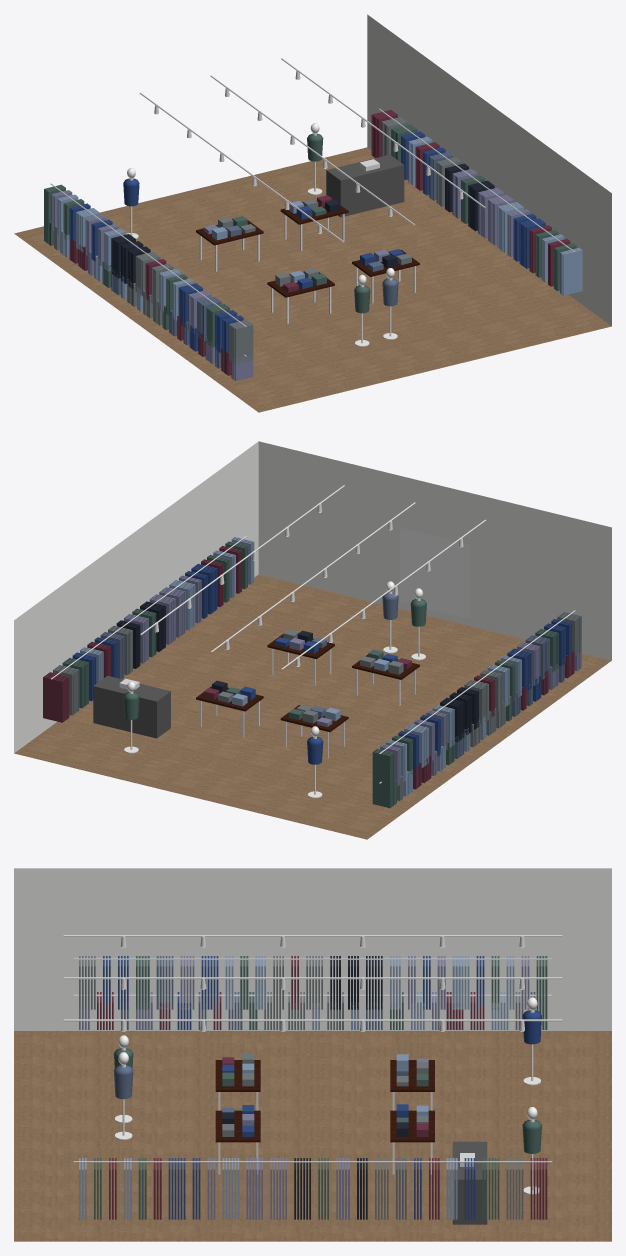
File: roupas.gltf
3 renders of one model, top to bottom at view 1: azimuth 30°, elevation 25°; view 2: azimuth 150°, elevation 25°; view 3: azimuth 270°, elevation 25°, orthographic. The views are drawn at different scales.
Visible parts, largest first — view 1: roupas_piso, roupas_parede, roupas_tecido1, roupas_tecido5, roupas_tecido3, roupas_tecido6, roupas_tecido4, roupas_metal, roupas_balcao, roupas_tecido2, roupas_tecido0, roupas_tecido7 (+2 smaller); view 2: roupas_piso, roupas_parede, roupas_tecido5, roupas_espelho, roupas_tecido1, roupas_tecido3, roupas_metal, roupas_tecido6, roupas_tecido4, roupas_tecido2, roupas_balcao, roupas_tecido0 (+3 smaller); view 3: roupas_piso, roupas_parede, roupas_metal, roupas_tecido1, roupas_tecido5, roupas_tecido3, roupas_tecido6, roupas_tecido4, roupas_tecido2, roupas_mesa, roupas_tecido7, roupas_tecido0 (+2 smaller).
Part boxes in pixels (left/top/right/bottom): roupas_piso: left=14, top=147, right=611, bottom=412; roupas_parede: left=367, top=14, right=611, bottom=325; roupas_tecido1: left=57, top=136, right=582, bottom=320; roupas_tecido5: left=44, top=124, right=576, bottom=347; roupas_tecido3: left=69, top=131, right=545, bottom=356; roupas_tecido6: left=51, top=169, right=529, bottom=380; roupas_tecido4: left=54, top=117, right=461, bottom=364; roupas_metal: left=50, top=58, right=574, bottom=356; roupas_balcao: left=326, top=154, right=404, bottom=217; roupas_tecido2: left=69, top=110, right=570, bottom=375; roupas_tecido0: left=111, top=163, right=494, bottom=288; roupas_tecido7: left=111, top=152, right=452, bottom=368; roupas_piso: left=14, top=574, right=611, bottom=839; roupas_parede: left=14, top=441, right=611, bottom=752; roupas_tecido5: left=62, top=541, right=558, bottom=808; roupas_espelho: left=399, top=528, right=470, bottom=618; roupas_tecido1: left=80, top=537, right=521, bottom=796; roupas_tecido3: left=72, top=563, right=571, bottom=772; roupas_metal: left=51, top=485, right=575, bottom=783; roupas_tecido6: left=124, top=575, right=581, bottom=786; roupas_tecido4: left=53, top=611, right=581, bottom=800; roupas_tecido2: left=43, top=546, right=574, bottom=789; roupas_balcao: left=93, top=675, right=170, bottom=738; roupas_tecido0: left=116, top=601, right=478, bottom=742; roupas_piso: left=14, top=1031, right=611, bottom=1241; roupas_parede: left=14, top=868, right=611, bottom=1030; roupas_metal: left=63, top=935, right=562, bottom=1174; roupas_tecido1: left=79, top=956, right=514, bottom=1219; roupas_tecido5: left=94, top=956, right=547, bottom=1219; roupas_tecido3: left=103, top=956, right=541, bottom=1219; roupas_tecido6: left=79, top=956, right=529, bottom=1219; roupas_tecido4: left=79, top=956, right=523, bottom=1219; roupas_tecido2: left=97, top=956, right=547, bottom=1219; roupas_mesa: left=215, top=1060, right=434, bottom=1142; roupas_tecido7: left=114, top=956, right=408, bottom=1219; roupas_tecido0: left=222, top=956, right=408, bottom=1219.
Bounding box in the file's own units: 10 × 3.6 × 12.
Materials: 17 (10 with a texture image).
